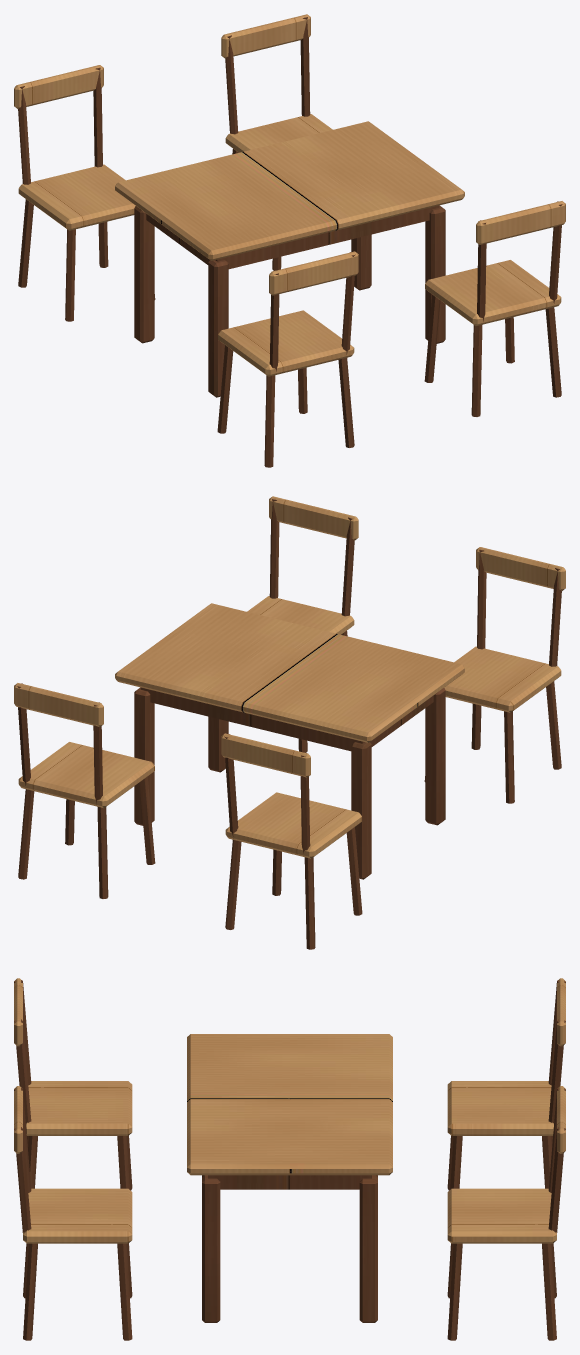
The model's file is set-four.glb.
3 views of the same model, one above another, from view 1: azimuth 30°, elevation 25°; view 2: azimuth 150°, elevation 25°; view 3: azimuth 270°, elevation 25° (orthographic). The views are drawn at different scales.
Parts seen in each view (by area): view 1: set_four; view 2: set_four; view 3: set_four.
Boxes of the visible parts, <box> form: set_four: <box>14,14,565,467</box>; set_four: <box>14,496,565,949</box>; set_four: <box>14,978,565,1340</box>.
Size of the model in its own units: 1.2 by 0.7661 by 1.82.
2 materials, 2 textured.
